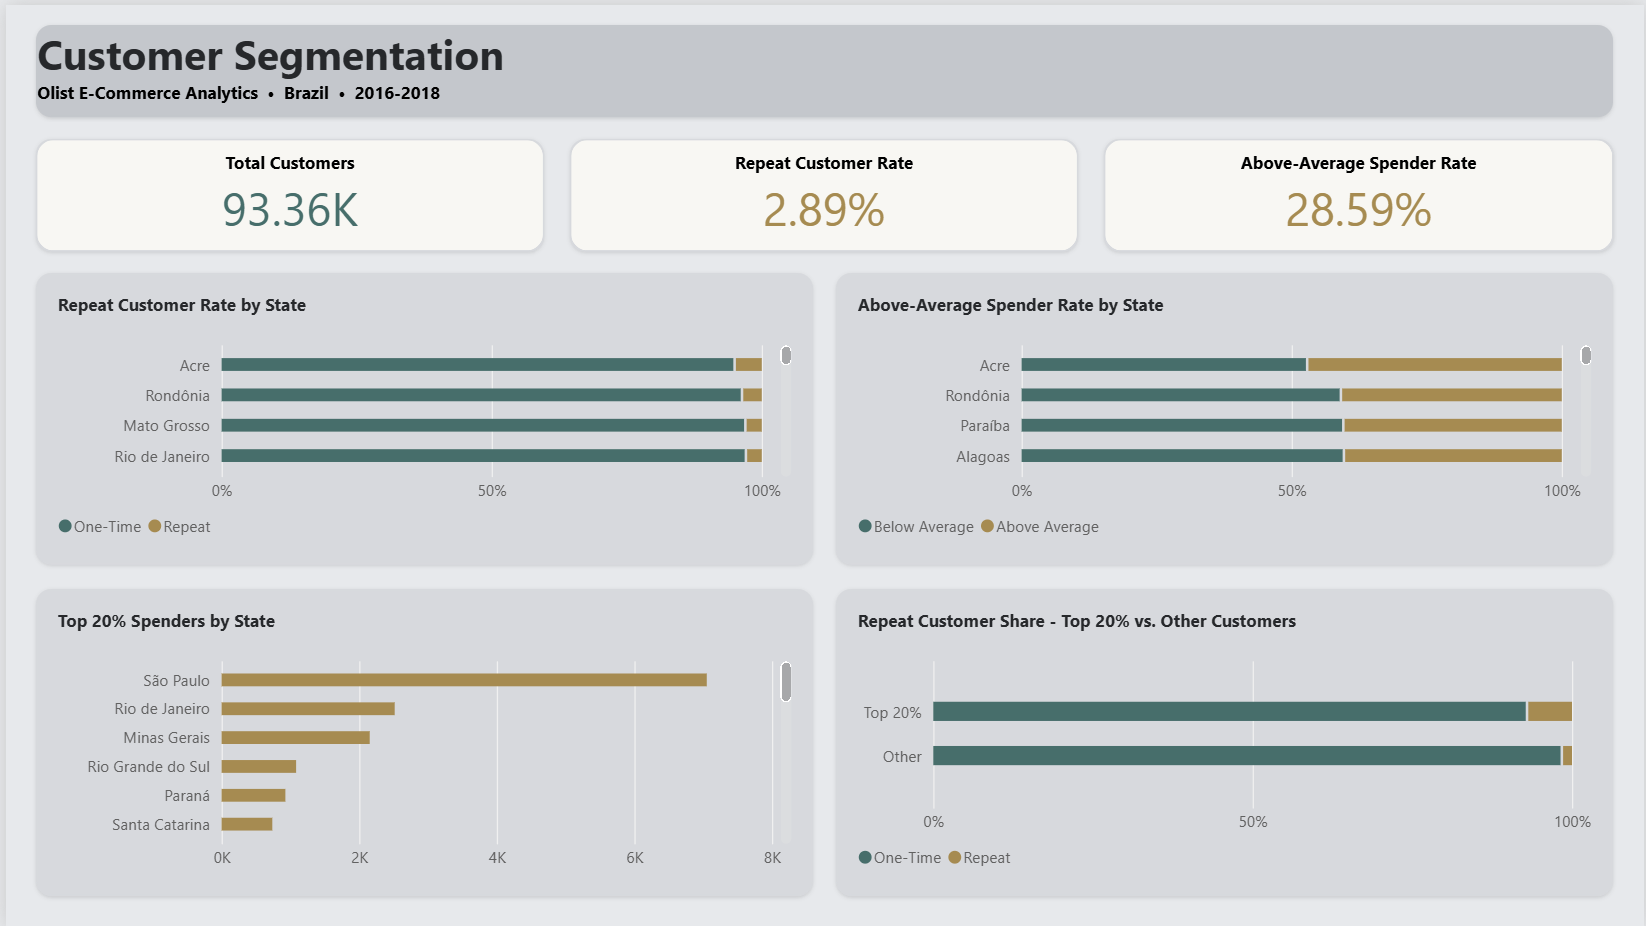

The page's visual inventory and layout, read from the dashboard file:
{"tool":"powerbi","page":{"name":"Customer Segmentation","canvas":[1280,720],"ordinal":2},"visuals":[{"type":"hundredPercentStackedBarChart","title":"Repeat Customer Rate by State","fields":{"Y":["Count(public customer_type_and_spending.customer_unique_id)"],"Category":["public customer_type_and_spending.Customer State Display"],"Series":["public customer_type_and_spending.Customer Type Display"]},"box":[24,210,607,228],"z":1000},{"type":"hundredPercentStackedBarChart","title":"Above-Average Spender Rate by State","fields":{"Y":["Count(public customer_type_and_spending.customer_unique_id)"],"Series":["public customer_type_and_spending.Above Average Display"],"Category":["public customer_type_and_spending.Customer State Display"]},"box":[649,210,607,228],"z":2000},{"type":"barChart","title":"Top 20% Spenders by State","fields":{"Y":["Count(public customer_type_and_spending.customer_unique_id)"],"Category":["public customer_type_and_spending.Customer State Display"]},"box":[24,456,607,240],"z":3000},{"type":"hundredPercentStackedBarChart","title":"Repeat Customer Share - Top 20% vs. Other Customers","fields":{"Category":["public customer_type_and_spending.Top20percent_flag"],"Y":["Count(public customer_type_and_spending.customer_unique_id)"],"Series":["public customer_type_and_spending.Customer Type Display"]},"box":[649,456,607,240],"z":4000},{"type":"cardVisual","fields":{"Data":["Count(public customer_type_and_spending.customer_unique_id)"]},"box":[24,104,397,88],"z":5000},{"type":"cardVisual","fields":{"Data":["public customer_type_and_spending.Repeat Rate"]},"box":[441,104,397,88],"z":6000},{"type":"cardVisual","fields":{"Data":["public customer_type_and_spending.Above Average Rate"]},"box":[858,104,398,88],"z":7000},{"type":"textbox","box":[24,16,1232,72],"z":50000}]}

Visuals, with their boxes in screenshot pixels (x1, y1, x2, y2), scaled from the page's 1280x720 canvas onto the 1646x926 screenshot:
"Repeat Customer Rate by State" hundredPercentStackedBarChart: {"x1": 31, "y1": 270, "x2": 811, "y2": 563}
"Above-Average Spender Rate by State" hundredPercentStackedBarChart: {"x1": 835, "y1": 270, "x2": 1615, "y2": 563}
"Top 20% Spenders by State" barChart: {"x1": 31, "y1": 586, "x2": 811, "y2": 895}
"Repeat Customer Share - Top 20% vs. Other Customers" hundredPercentStackedBarChart: {"x1": 835, "y1": 586, "x2": 1615, "y2": 895}
cardVisual - Count(public customer_type_and_spending.customer_unique_id): {"x1": 31, "y1": 134, "x2": 541, "y2": 247}
cardVisual - public customer_type_and_spending.Repeat Rate: {"x1": 567, "y1": 134, "x2": 1078, "y2": 247}
cardVisual - public customer_type_and_spending.Above Average Rate: {"x1": 1103, "y1": 134, "x2": 1615, "y2": 247}
textbox: {"x1": 31, "y1": 21, "x2": 1615, "y2": 113}
